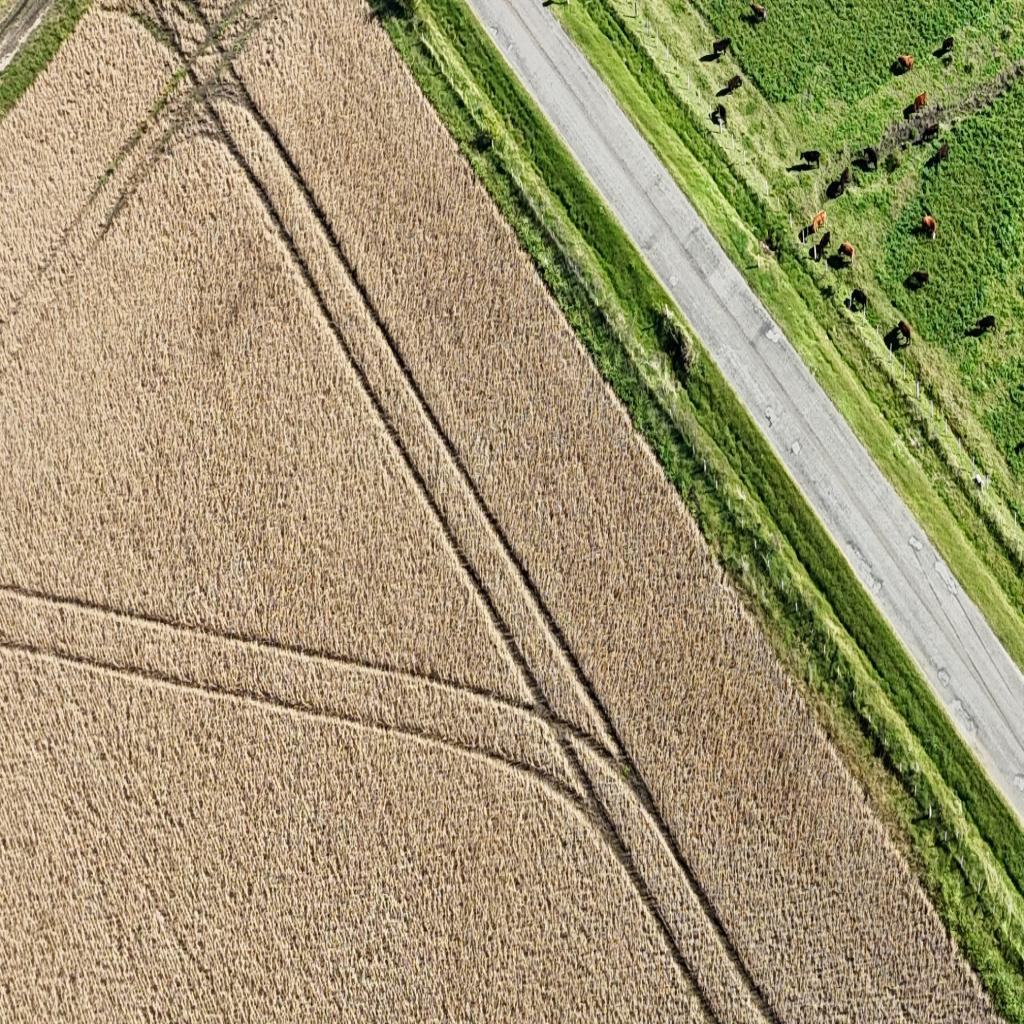cow: (801, 209, 826, 244), (826, 168, 849, 200), (852, 146, 879, 173), (926, 141, 950, 169), (904, 91, 927, 120), (915, 121, 940, 146), (811, 230, 830, 260), (892, 321, 911, 351), (964, 317, 992, 337), (718, 74, 742, 97), (848, 288, 868, 314), (835, 243, 855, 269), (921, 213, 938, 243), (932, 35, 954, 58), (905, 271, 929, 292), (748, 2, 768, 26), (800, 149, 820, 170), (893, 54, 913, 74), (713, 37, 732, 58), (713, 106, 727, 128)
